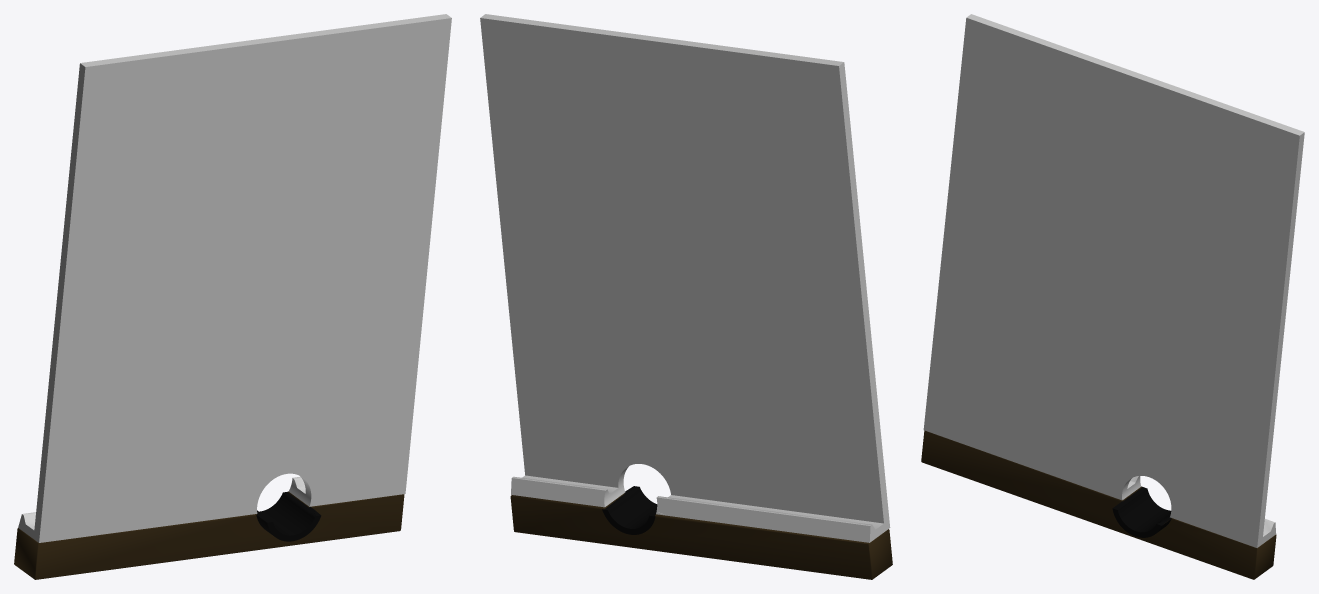
The model's file is table2.obj.
The picture shows the model from 3 angles, left to right: view 1: azimuth 30°, elevation 25°; view 2: azimuth 150°, elevation 25°; view 3: azimuth 330°, elevation 25°; orthographic projection. The views are drawn at different scales.
Parts seen in each view (by area): view 1: table, wood, hole; view 2: table, wood, hole; view 3: table, wood, hole.
Part boxes in pixels (x1,y1,x2,y2): table: (18,14,451,542); wood: (14,491,404,579); hole: (256,492,321,541); table: (480,14,890,542); wood: (510,493,892,579); hole: (602,486,657,534); table: (923,14,1304,547); wood: (921,430,1276,579); hole: (1112,487,1171,537).
Bounding box in the file's own units: 3343 × 4150 × 453.
